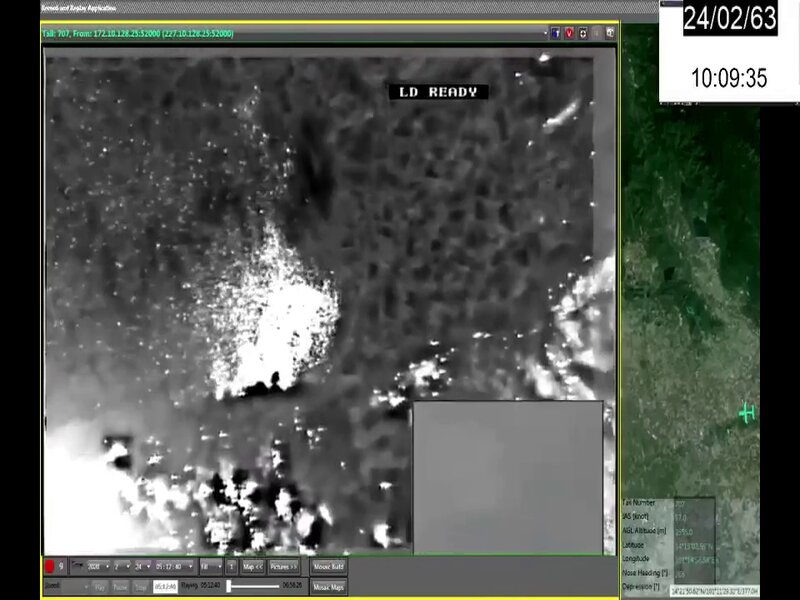Fire: (209, 219, 340, 405)
